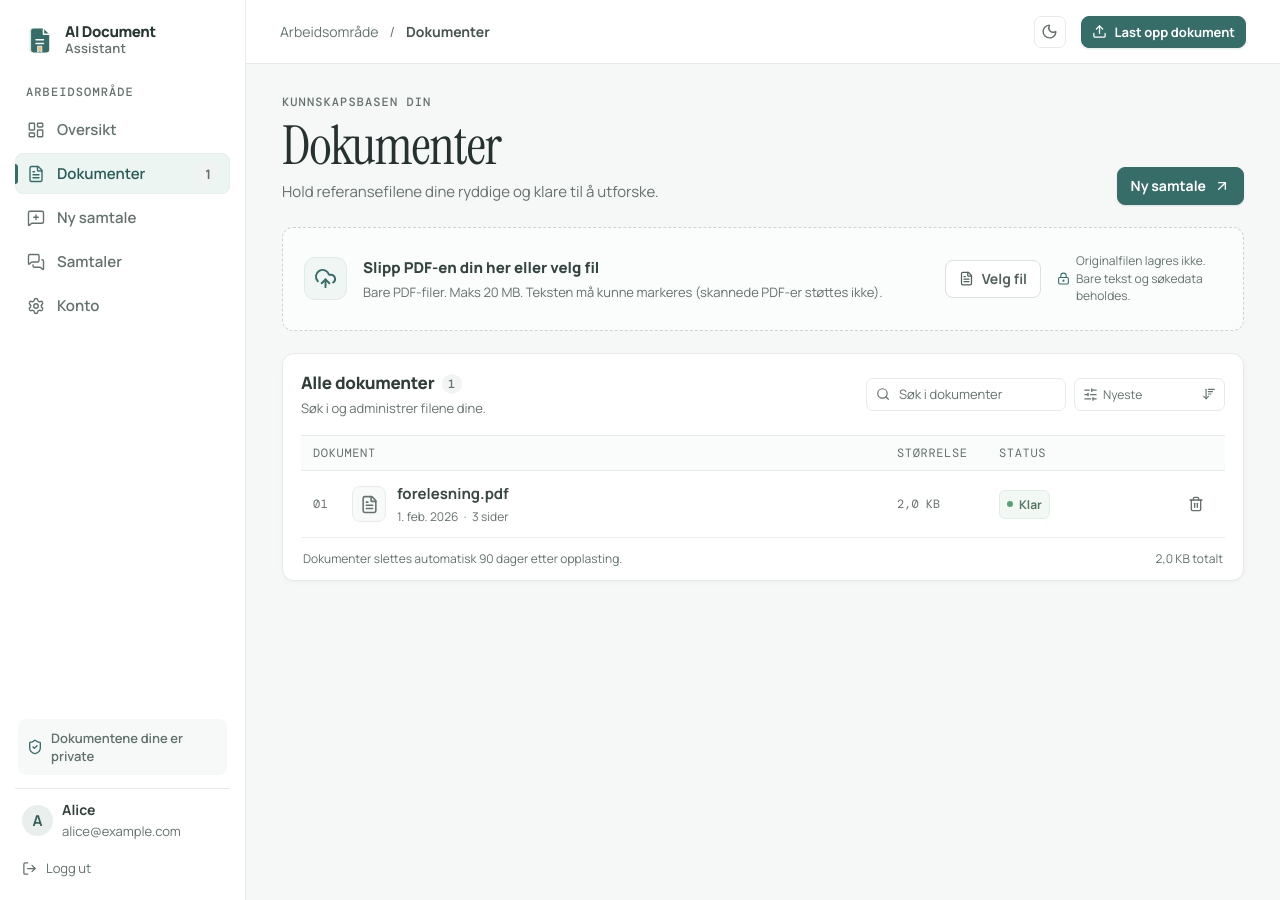
Test: documents › asks for confirmation before deleting, then deletes
The width and height of the screenshot is (1280, 900).
Step 1. Click the button named "Slett forelesning.pdf" → (1196,504), box [1181, 490, 1210, 519]
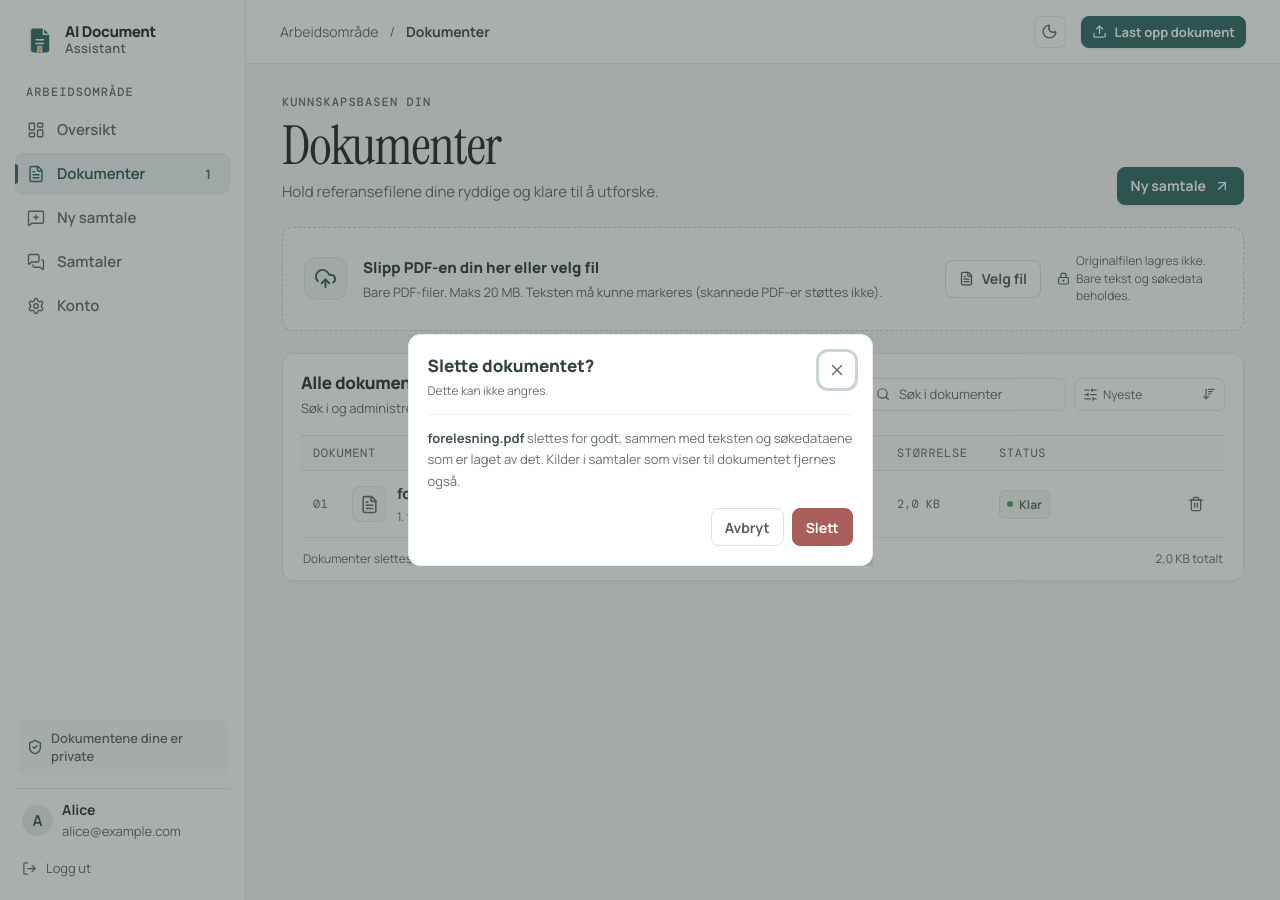
Result: the dialog shows "forelesning.pdf" at [428, 429, 524, 447]
Step 2. Click the button "Slett" → (822,527), box [792, 508, 852, 546]
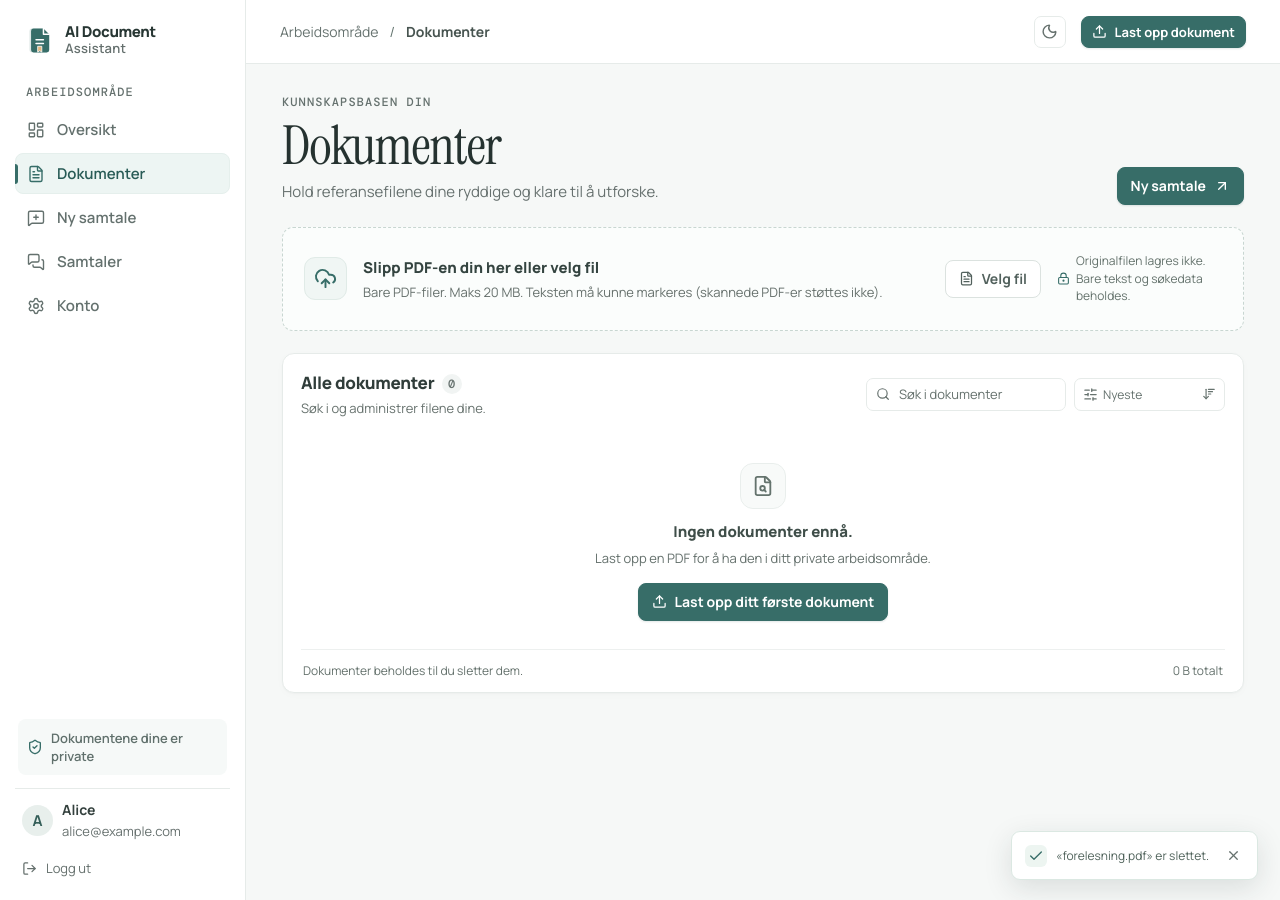
Result: the heading "Ingen dokumenter ennå." is shown at [673, 521, 853, 542]
